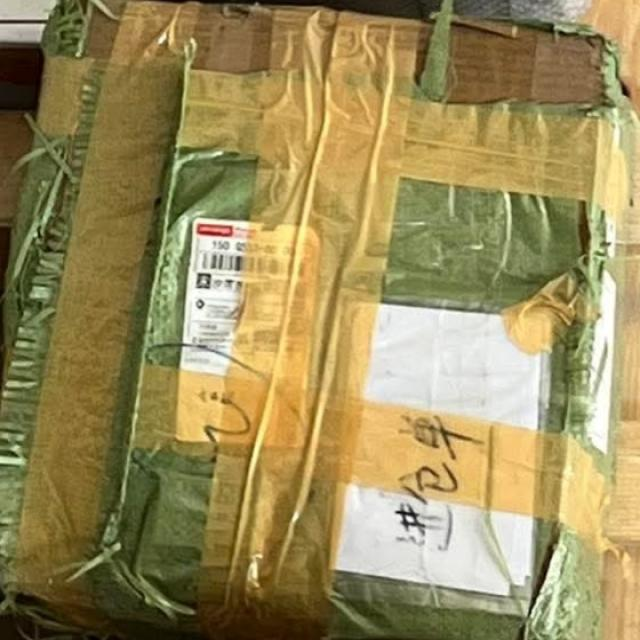carton_box: (11, 0, 636, 640)
package_damage: (402, 1, 623, 74), (148, 0, 314, 44)
